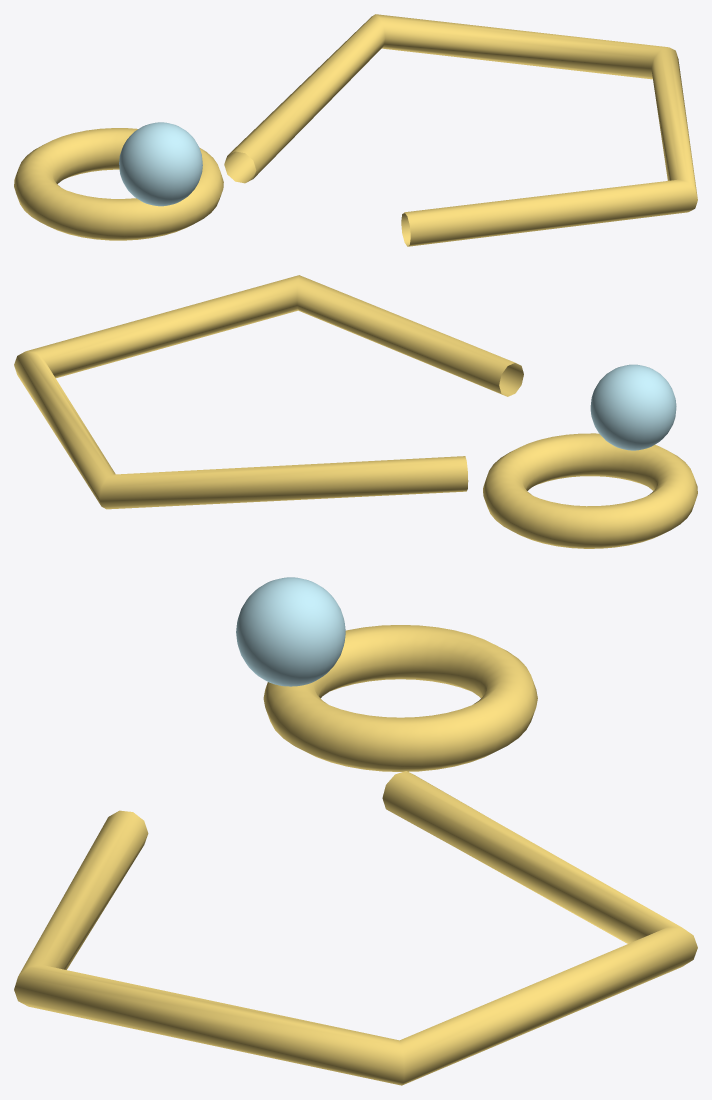
The model's file is jewelry.glb.
3 views of the same model, one above another, from view 1: azimuth 30°, elevation 25°; view 2: azimuth 150°, elevation 25°; view 3: azimuth 270°, elevation 25° (orthographic). The views are drawn at different scales.
Parts seen in each view (by area): view 1: chain, ring, gem; view 2: chain, ring, gem; view 3: chain, ring, gem.
Part boxes in pixels (x1,y1,x2,y2): chain: (224, 14, 697, 246); ring: (14, 128, 223, 240); gem: (119, 122, 202, 206); chain: (14, 275, 523, 509); ring: (483, 433, 697, 548); gem: (590, 364, 676, 450); chain: (14, 771, 697, 1085); ring: (263, 625, 537, 771); gem: (236, 577, 345, 686).
Bounding box in the file's own units: 0.1075 × 0.0184 × 0.0748.
